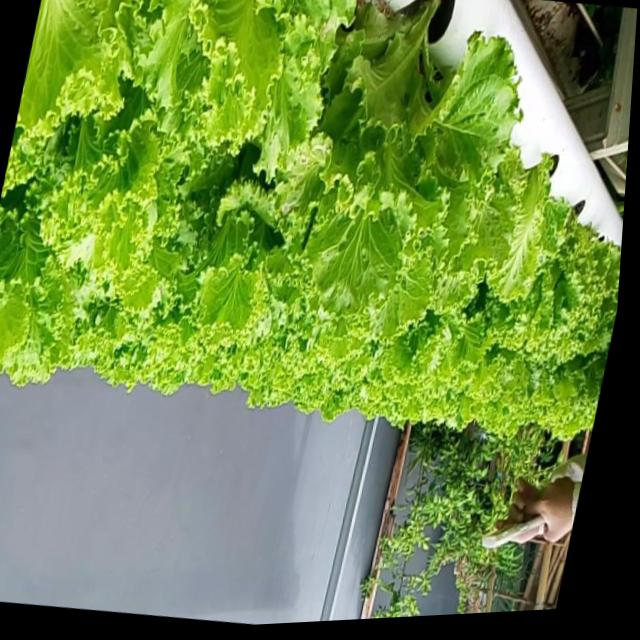Mature: (0, 0, 620, 432), (282, 8, 490, 302), (465, 172, 618, 388)
